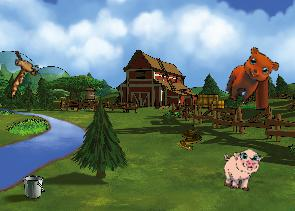bear: (221, 43, 282, 112)
eagle: (0, 46, 44, 99)
pig: (219, 146, 263, 193)
